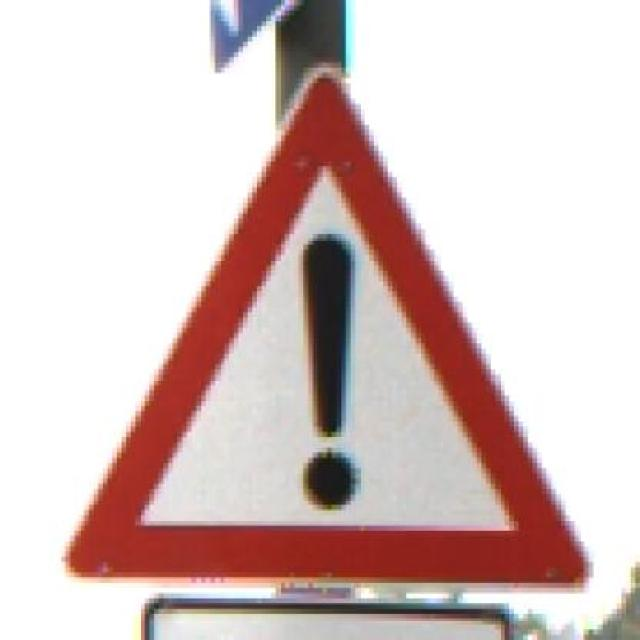Attention Please-: (37, 52, 612, 593)
